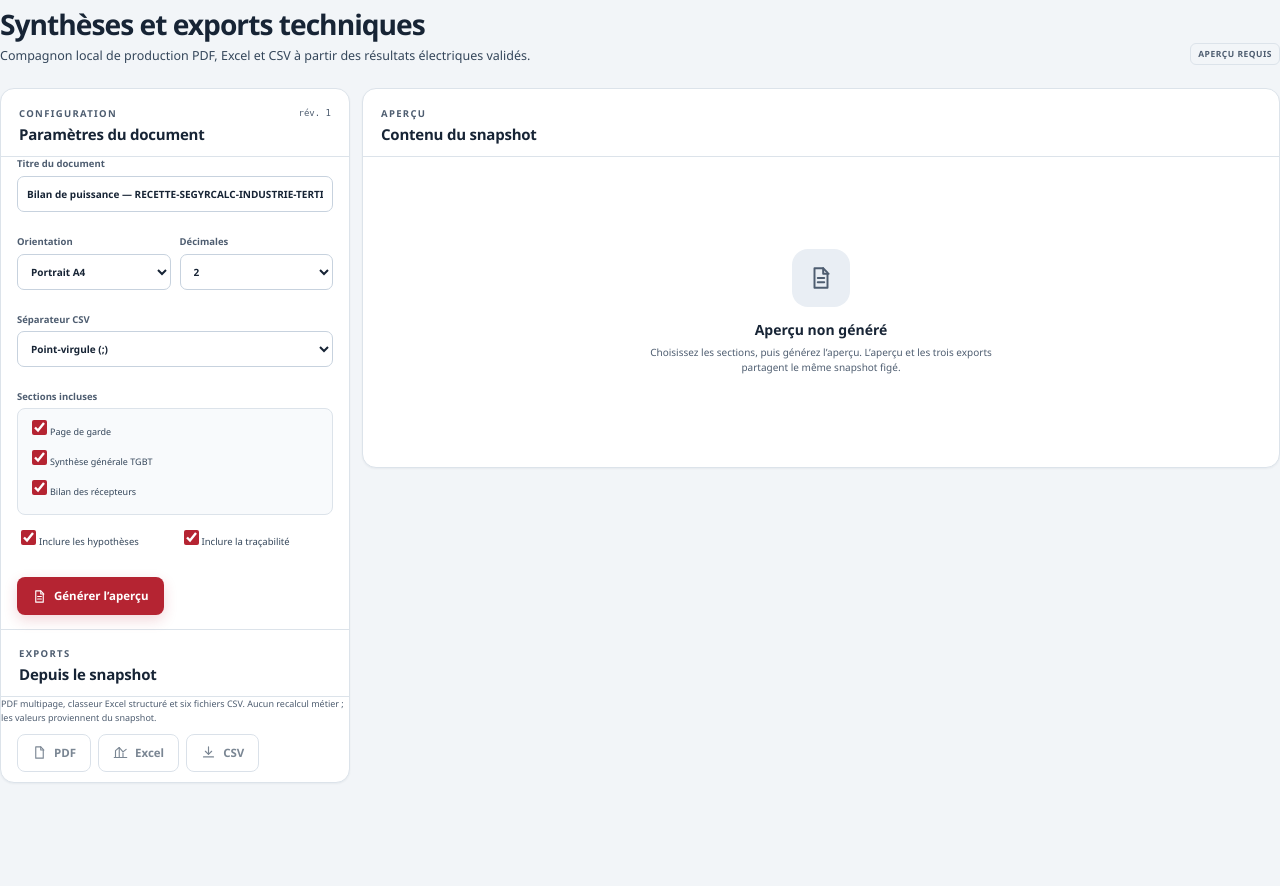
Test case: ReportsScreen › affiche les S/I individuels issus du moteur
Click the button with test id "report-preview-generate".
click(90, 596)  # box [17,577,164,615]
(page scrolled)
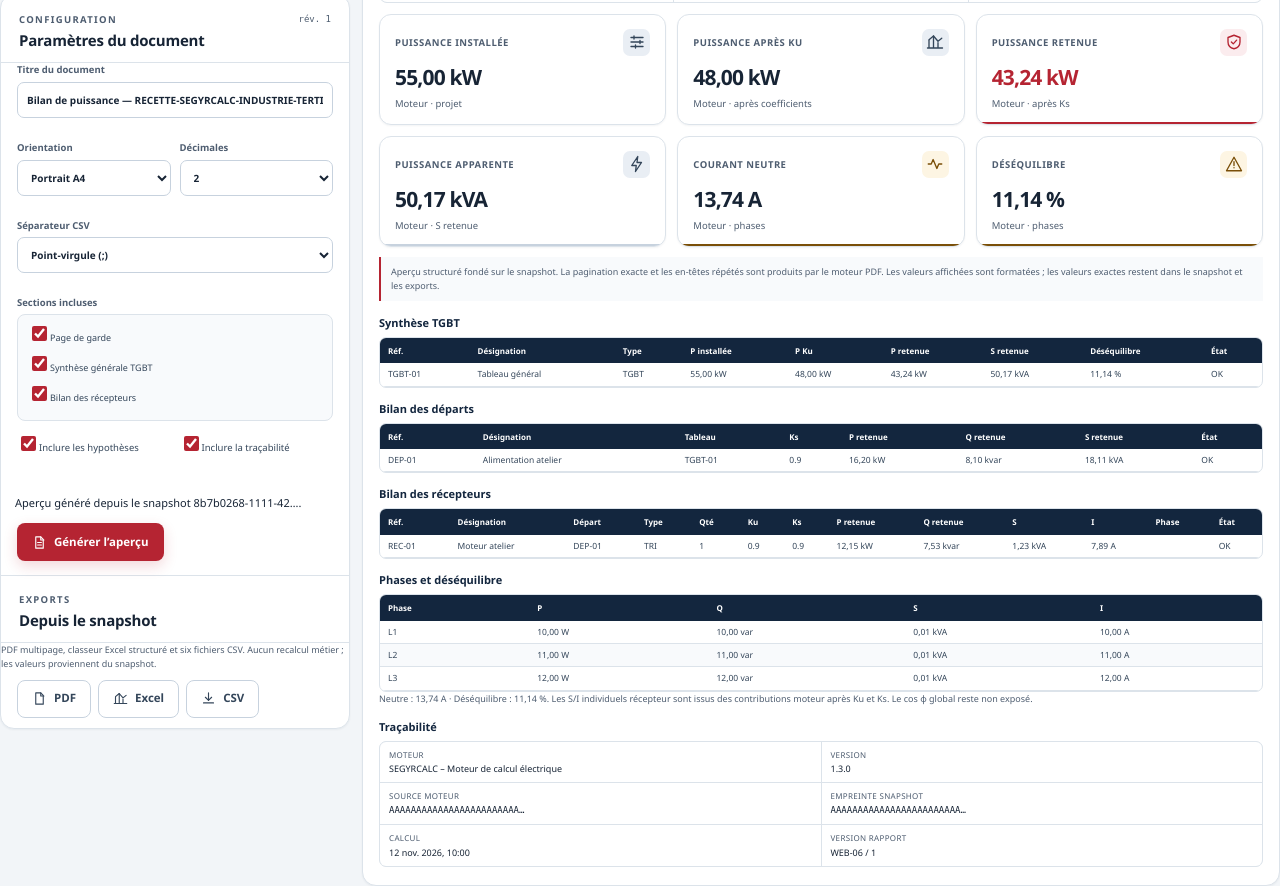
Expected: the text "1,23 kVA" is shown, [1012,540,1046,551]
Expected: the text "7,89 A" is shown, [1091,540,1116,551]
Expected: the text "contributions moteur après Ku et Ks" is shown, [547,692,1032,705]
